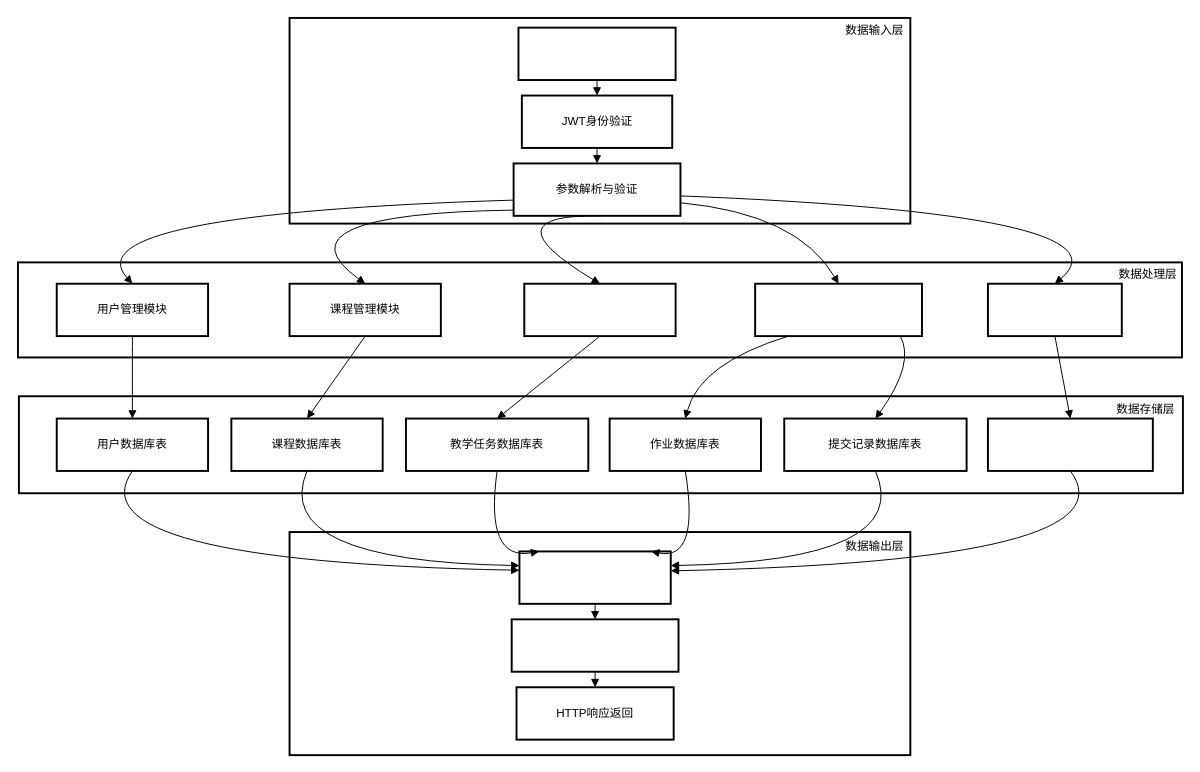
Image size: 1200x772. Some labels were removed from this diagram. The box of each missing label's shape, as (x1, y1, x2, y2) in pixels:
AI类型与结果表: (986, 417, 1153, 471)
AI评测模块: (986, 282, 1122, 337)
HTTP请求接收: (517, 26, 676, 81)
作业与提交模块: (754, 282, 922, 337)
响应数据格式化: (510, 618, 679, 672)
教学内容模块: (523, 282, 676, 337)
错误代码映射: (518, 550, 671, 604)
